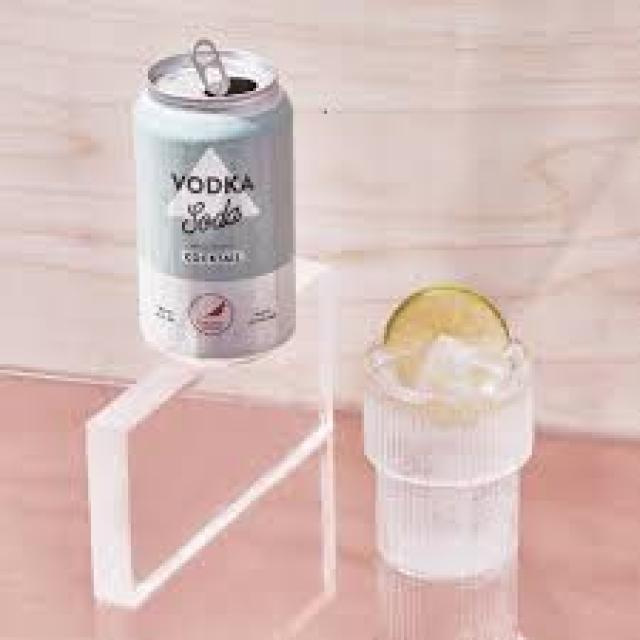Cans: (128, 28, 304, 370)
